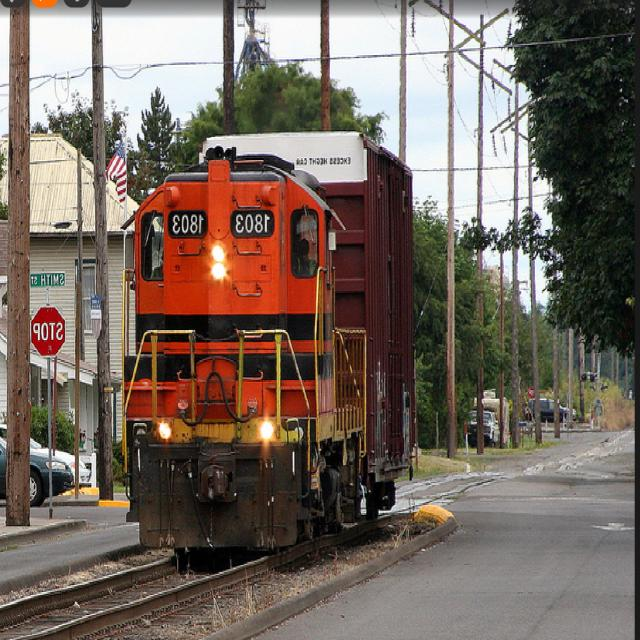STOP: (22, 302, 69, 366)
